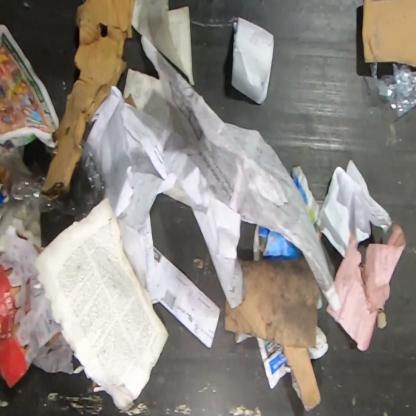cardboard: (40, 0, 136, 202), (224, 257, 320, 413), (0, 224, 66, 393), (362, 0, 415, 67)
rigid_plastic: (0, 153, 107, 222), (369, 62, 415, 118)
